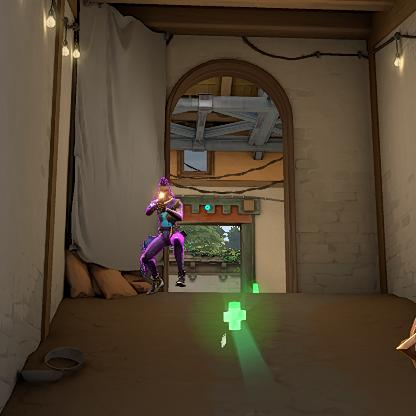enemyBody: (160, 202, 175, 233)
enemyHead: (159, 185, 169, 199)
